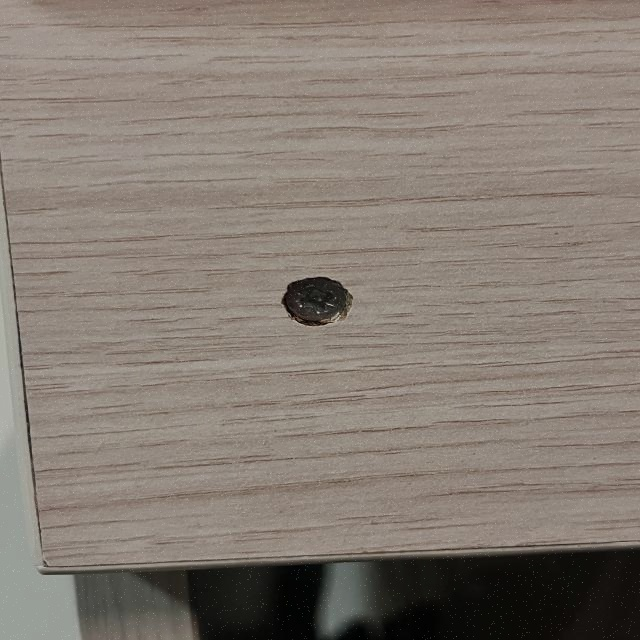pozidriv: (283, 277, 347, 321)
